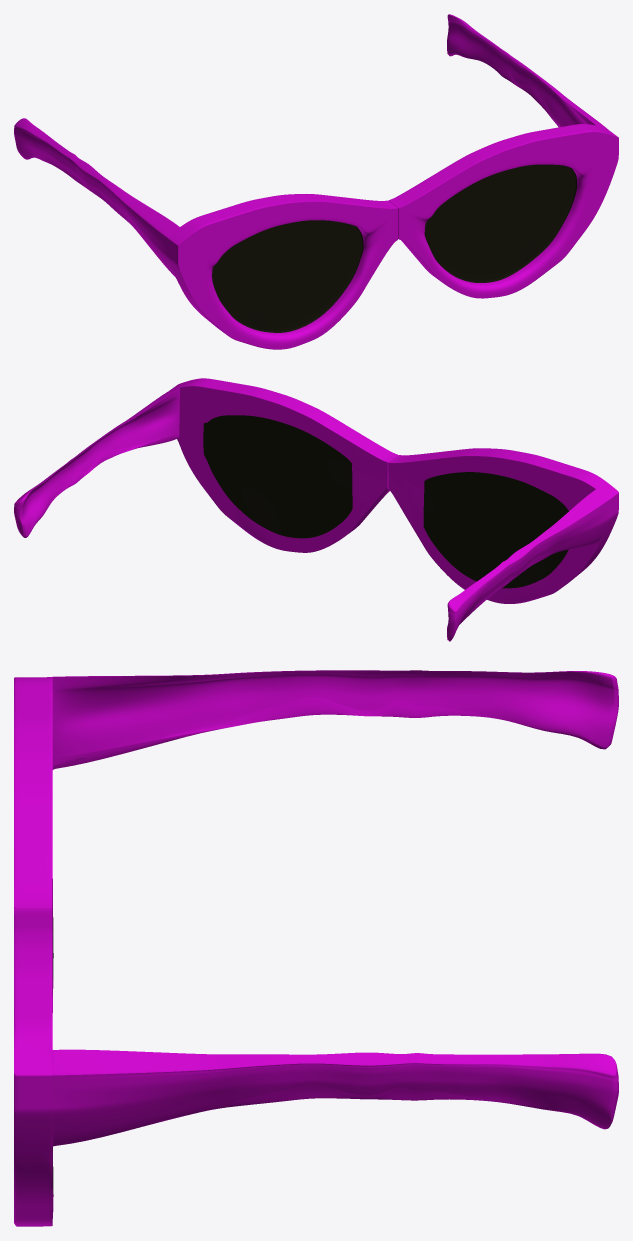
The model's file is cat_eye_glasses.glb.
3 views of the same model, one above another, from view 1: azimuth 30°, elevation 25°; view 2: azimuth 150°, elevation 25°; view 3: azimuth 270°, elevation 25° (orthographic). The views are drawn at different scales.
Visible parts, largest first — view 1: Glasses_2; view 2: Glasses_2; view 3: Glasses_2.
Boxes of the visible parts, box(x1,y1,x2,y2) form: Glasses_2: box(14, 14, 618, 349); Glasses_2: box(14, 378, 618, 641); Glasses_2: box(14, 670, 618, 1226).
Bounding box in the file's own units: 1.6 × 0.5081 × 1.03.
